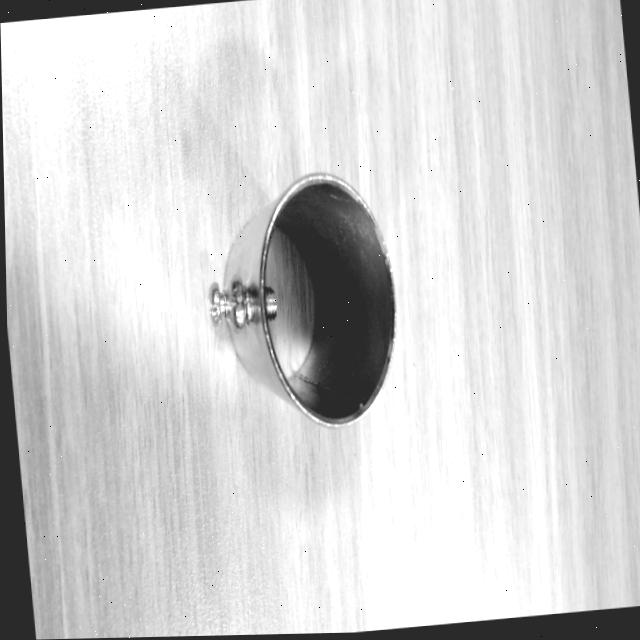Co_Nho: (173, 153, 470, 451)
